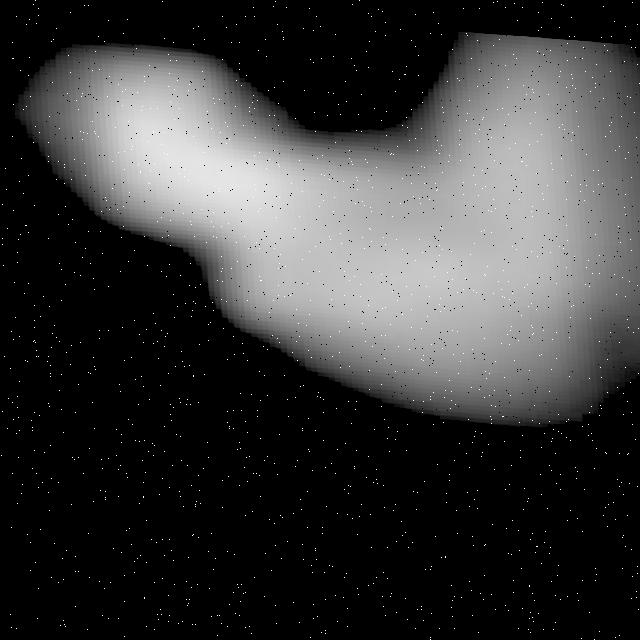person: (16, 2, 634, 431)
